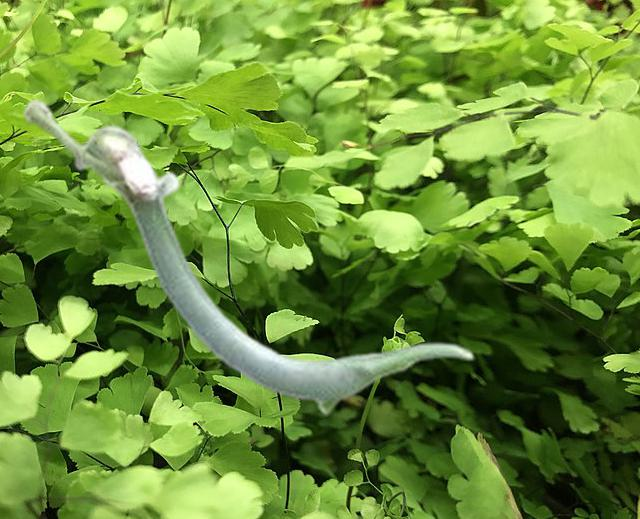french_bean: (22, 97, 474, 415)
